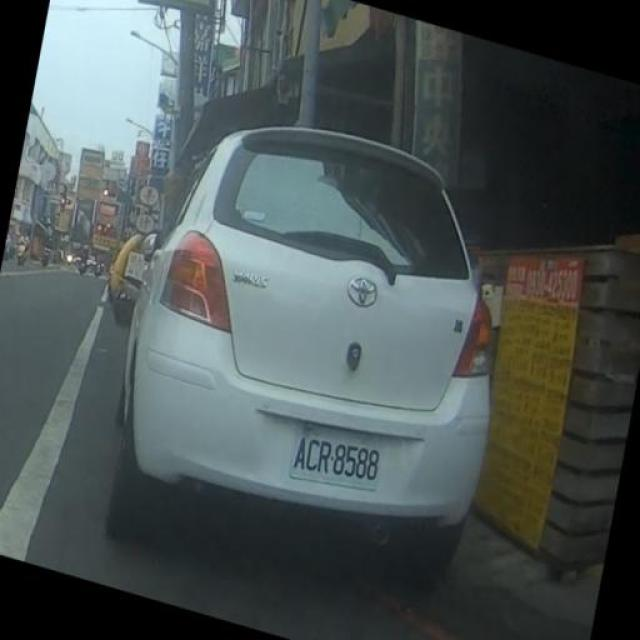Legalparking: (87, 93, 557, 580)
